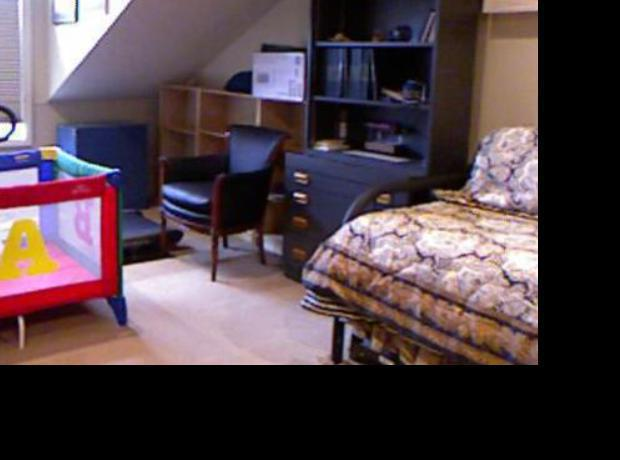Armario: (293, 0, 457, 282)
